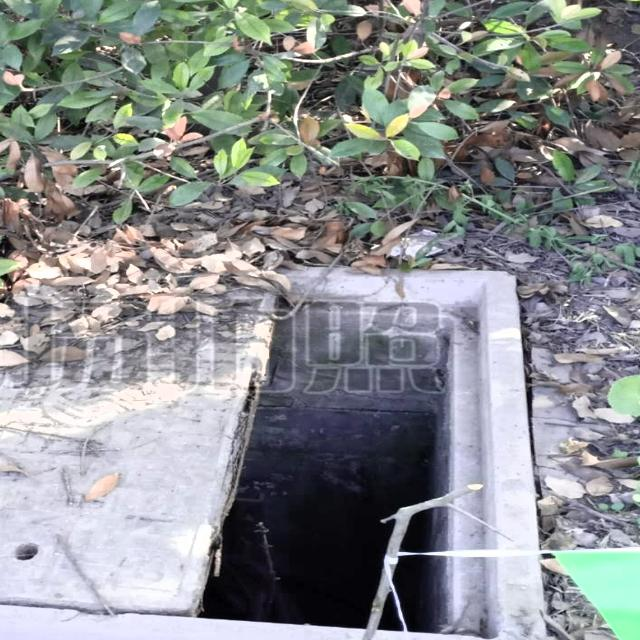lose: (0, 244, 551, 640)
